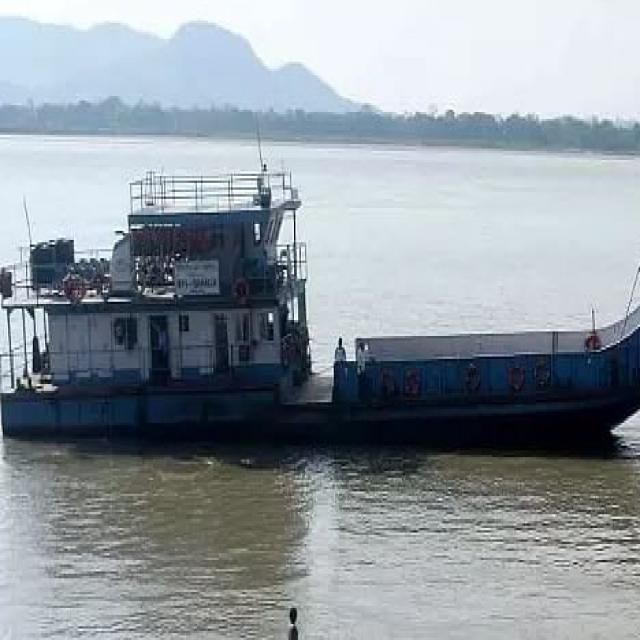fishing boat: (0, 153, 640, 448)
